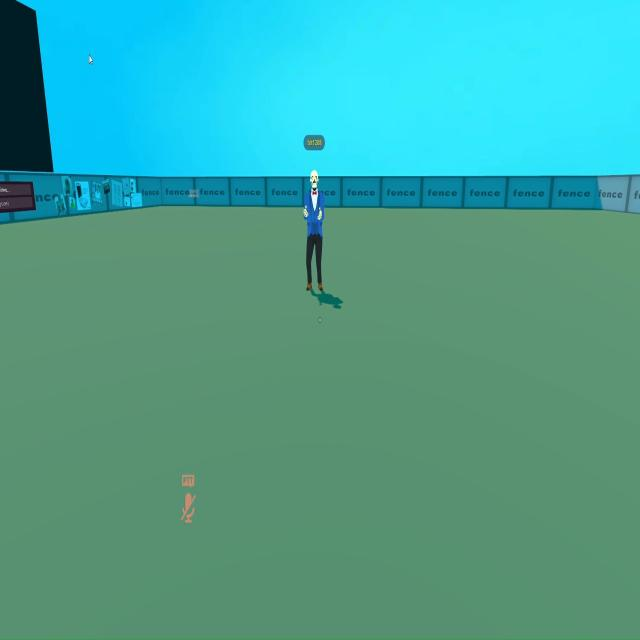human: (298, 166, 338, 303)
